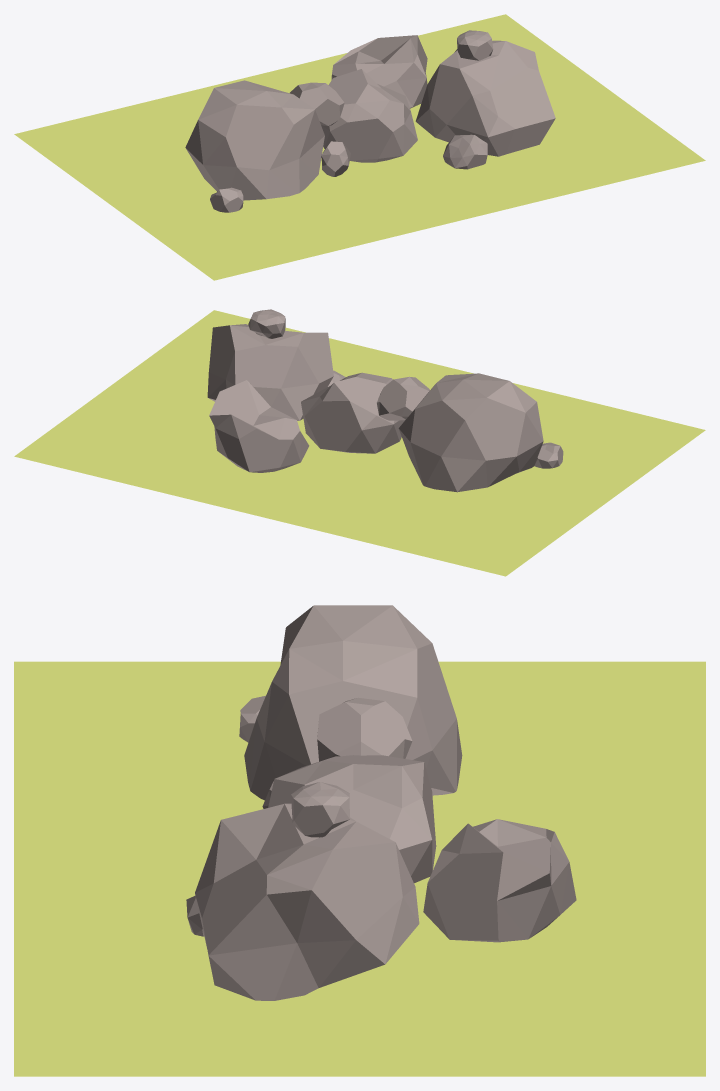
The model's file is rocks_UV_floor_small.glb.
3 views of the same model, one above another, from view 1: azimuth 30°, elevation 25°; view 2: azimuth 150°, elevation 25°; view 3: azimuth 270°, elevation 25° (orthographic). The views are drawn at different scales.
Parts seen in each view (by area): view 1: Plane, Icosphere.005; view 2: Plane, Icosphere.005; view 3: Plane, Icosphere.005.
Part boxes in pixels (x1,y1,x2,y2): Plane: (14,14,705,280); Icosphere.005: (185,30,555,212); Plane: (14,310,705,576); Icosphere.005: (207,309,563,492); Plane: (14,661,705,1076); Icosphere.005: (186,605,576,1000).
Bounding box in the file's own units: 7.66 × 1.65 × 5.4.
